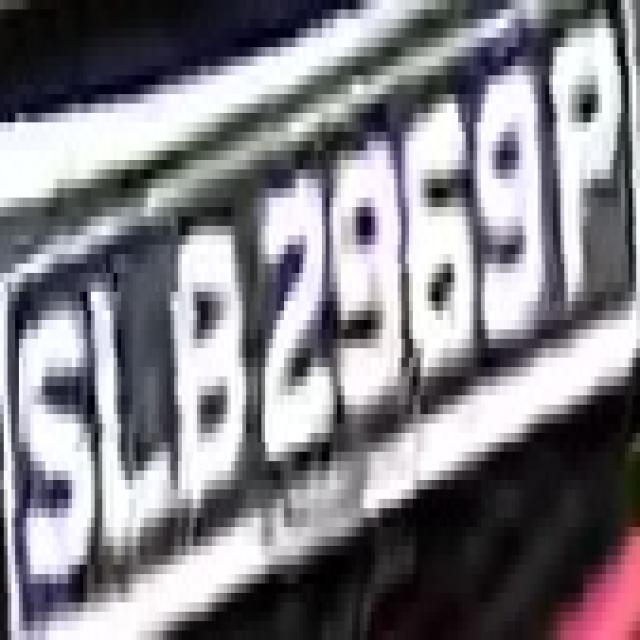2: (250, 160, 333, 480)
6: (394, 75, 492, 433)
9: (318, 75, 409, 471), (458, 56, 560, 386)
B: (163, 207, 257, 546)
L: (76, 235, 182, 546)
P: (542, 10, 621, 358)
S: (7, 254, 91, 612)
